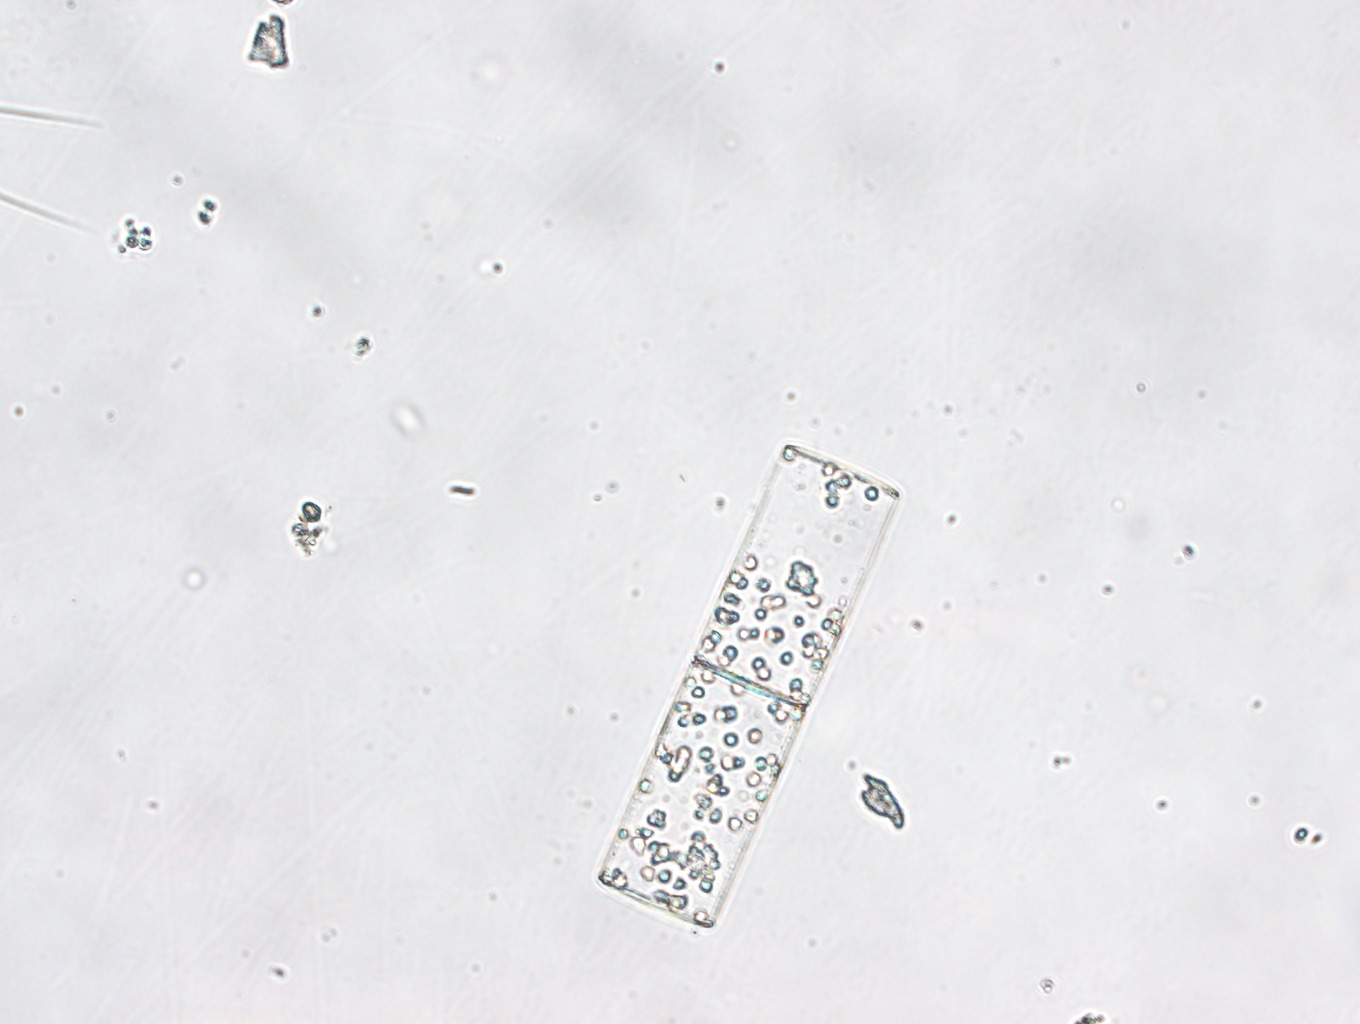guinardia flaccida: (598, 445, 898, 931)
